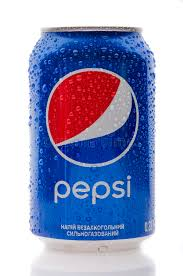Pepsi: (26, 25, 163, 252)
